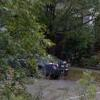Tree: (2, 0, 61, 57)
